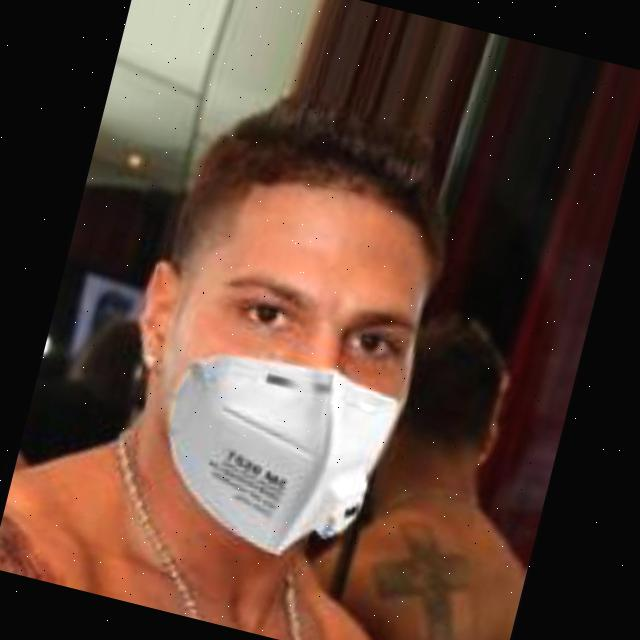suspicion: (88, 88, 500, 572)
